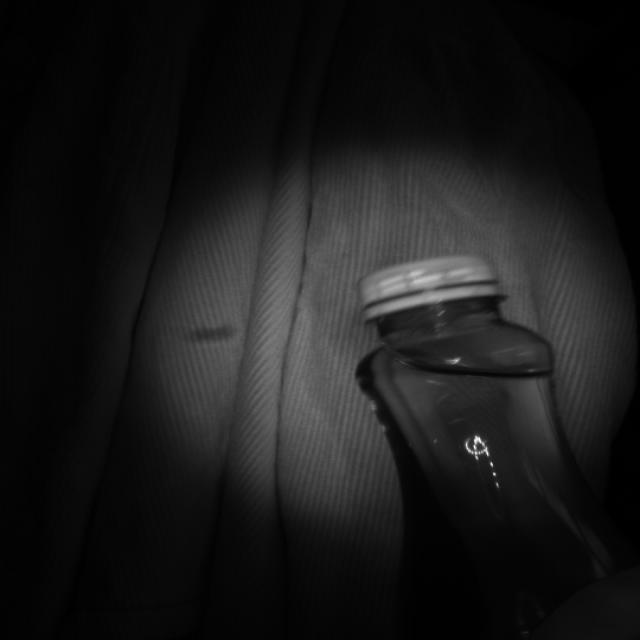Not Good: (352, 254, 510, 318)
